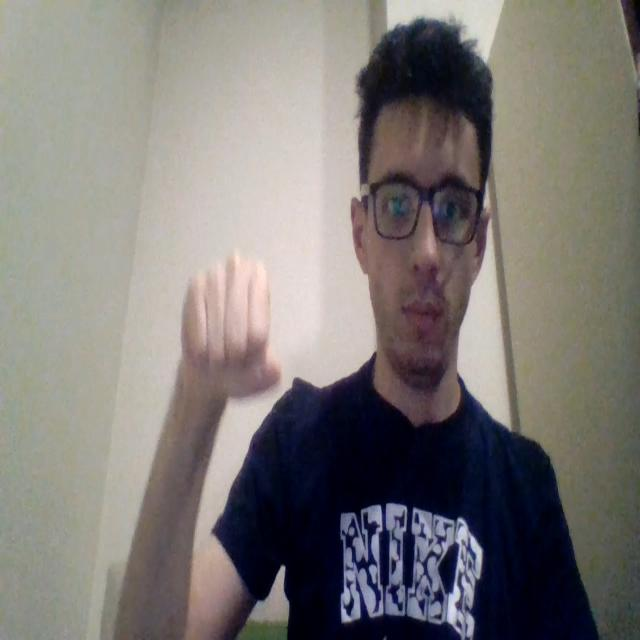yes: (179, 249, 281, 401)
